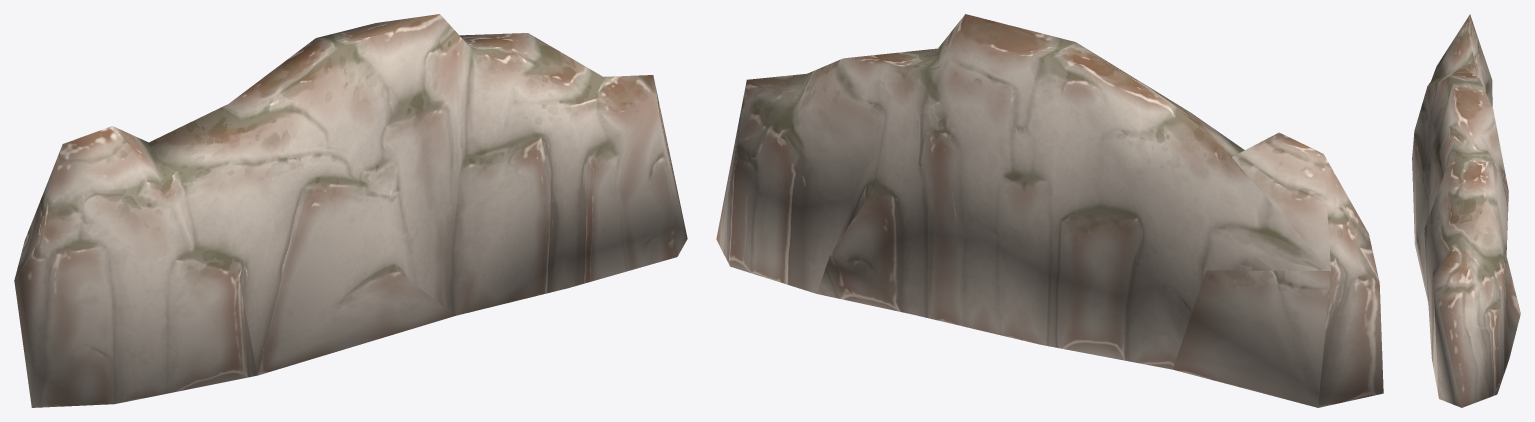
Rendered from Rock Wall 1.fbx.
3 renders of one model, left to right at view 1: azimuth 30°, elevation 25°; view 2: azimuth 150°, elevation 25°; view 3: azimuth 270°, elevation 25°, orthographic. The views are drawn at different scales.
Visible parts, largest first — view 1: Rock_Wall_1; view 2: Rock_Wall_1; view 3: Rock_Wall_1.
Boxes of the visible parts, left/top/right/bottom form: Rock_Wall_1: left=14, top=14, right=687, bottom=407; Rock_Wall_1: left=716, top=14, right=1383, bottom=407; Rock_Wall_1: left=1412, top=14, right=1520, bottom=407.
Size of the model in its own units: 10937 by 4473 by 2118.
Materials: 1 (1 with a texture image).
